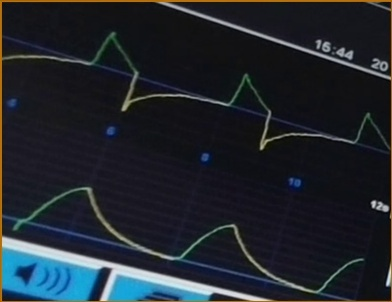Normal Flow: (3, 30, 389, 151)
Normal Volume: (11, 180, 364, 293)
